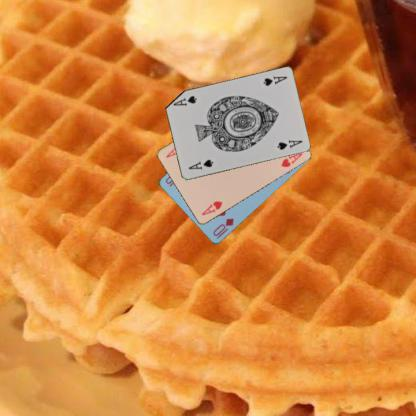10d: (210, 215, 235, 240)
Ah: (199, 198, 224, 216)
As: (186, 157, 214, 171), (261, 74, 288, 87)
